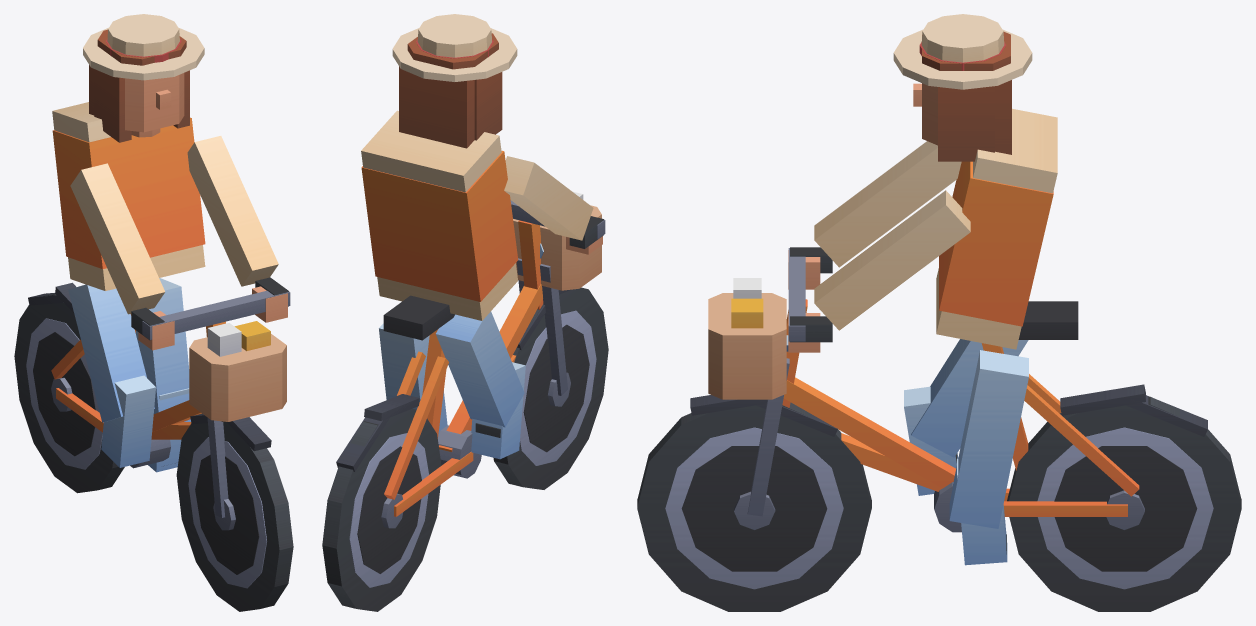
The model's file is cyclist_city_cruiser.glb.
3 renders of one model, left to right at view 1: azimuth 30°, elevation 25°; view 2: azimuth 150°, elevation 25°; view 3: azimuth 270°, elevation 25°, orthographic. The views are drawn at different scales.
Parts seen in each view (by area): view 1: cyclist_city_cruiser; view 2: cyclist_city_cruiser; view 3: cyclist_city_cruiser.
Part boxes in pixels (x1,y1,x2,y2): cyclist_city_cruiser: [14, 14, 293, 611]; cyclist_city_cruiser: [322, 14, 608, 611]; cyclist_city_cruiser: [637, 14, 1241, 611].
Bounding box in the file's own units: 0.52 × 1.79 × 1.7.
Materials: 1 (1 with a texture image).
